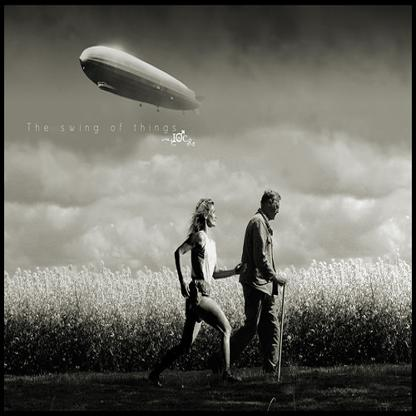Airship: (76, 43, 215, 126)
